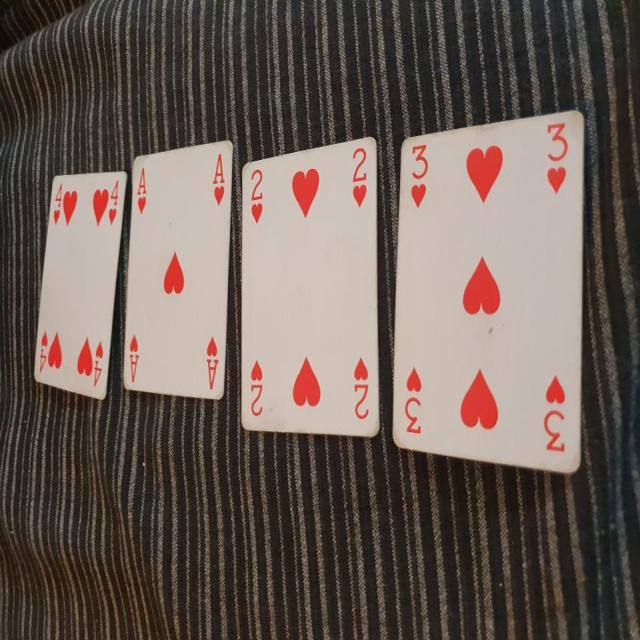2 Hearts: (234, 130, 390, 437)
3 Hearts: (390, 108, 587, 486)
4 Hearts: (35, 162, 130, 402)
A Hearts: (120, 129, 241, 414)
